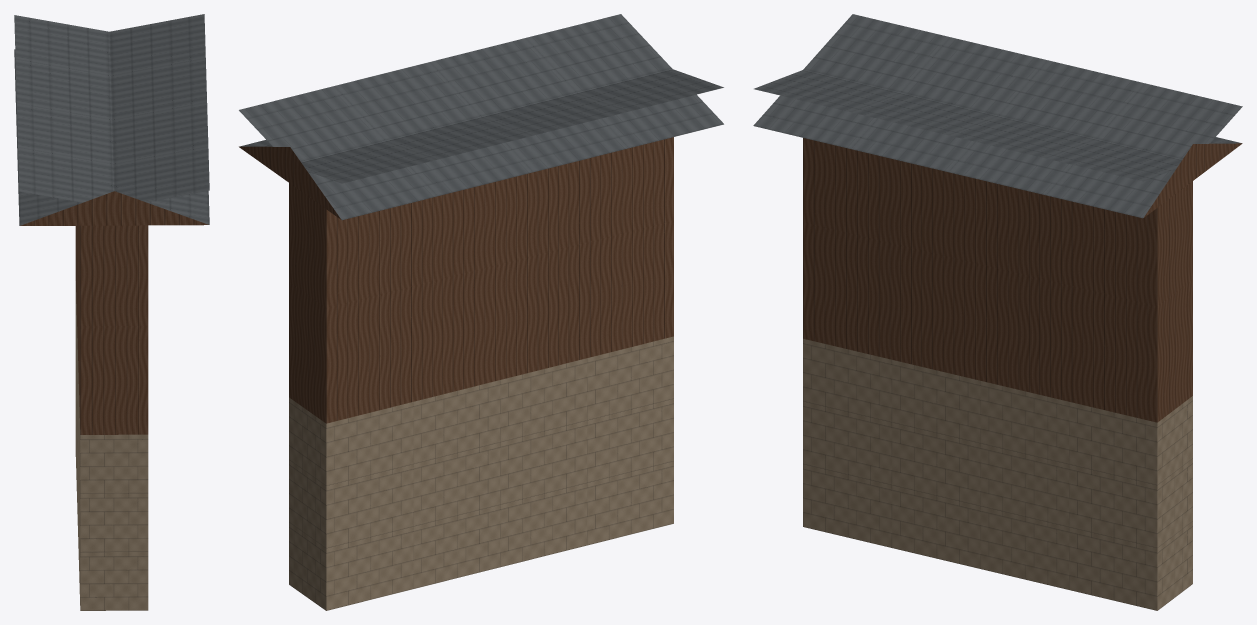
Rendered from bld_c4_20_453.gltf.
The picture shows the model from 3 angles, left to right: view 1: azimuth 30°, elevation 25°; view 2: azimuth 150°, elevation 25°; view 3: azimuth 270°, elevation 25°; orthographic projection. The views are drawn at different scales.
Parts seen in each view (by area): view 1: bld_c4_20_453; view 2: bld_c4_20_453; view 3: bld_c4_20_453.
Boxes of the visible parts, box(x1,y1,x2,y2) form: bld_c4_20_453: box(14, 14, 209, 610); bld_c4_20_453: box(239, 14, 723, 610); bld_c4_20_453: box(753, 14, 1242, 610).
Bounding box in the file's own units: 9.73 × 12.4 × 12.02.
Materials: 4 (4 with a texture image).
